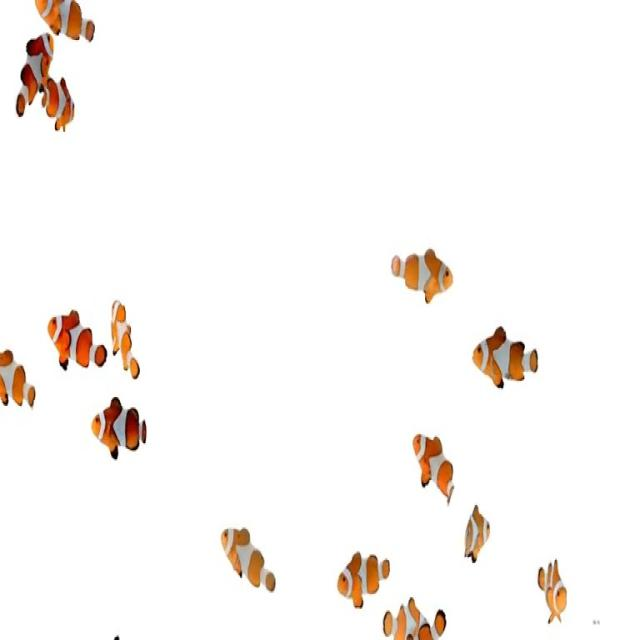fish: (468, 323, 546, 392), (87, 399, 153, 459), (393, 240, 454, 304), (335, 543, 392, 609), (14, 24, 53, 120), (412, 430, 458, 508), (220, 526, 276, 590), (50, 312, 106, 374), (35, 0, 102, 46), (531, 556, 570, 629), (0, 345, 38, 414), (109, 300, 142, 378), (374, 590, 425, 640), (41, 76, 77, 136), (468, 497, 492, 577)
